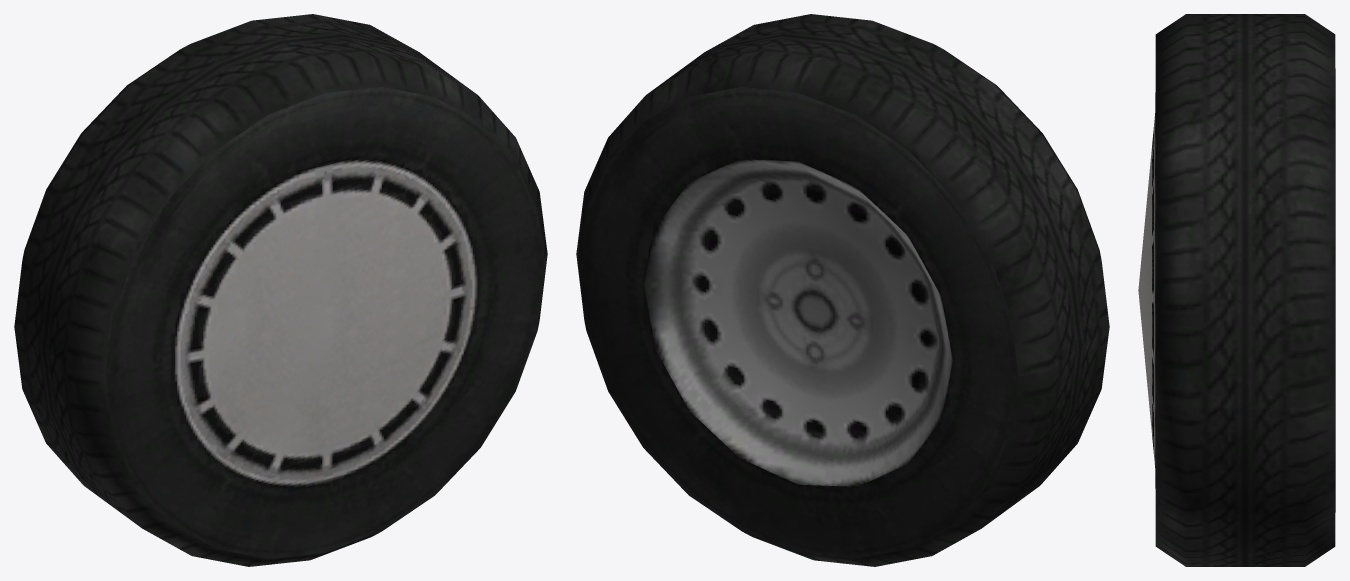
The model's file is V_A_2DrCoupe_Wheels_6_SkeletalMesh3_PartMesh.psk.glb.
The picture shows the model from 3 angles, left to right: view 1: azimuth 30°, elevation 25°; view 2: azimuth 150°, elevation 25°; view 3: azimuth 270°, elevation 25°; orthographic projection.
Bounding box in the file's own units: 68.94 × 68.94 × 24.5.
1 material, 1 textured.
